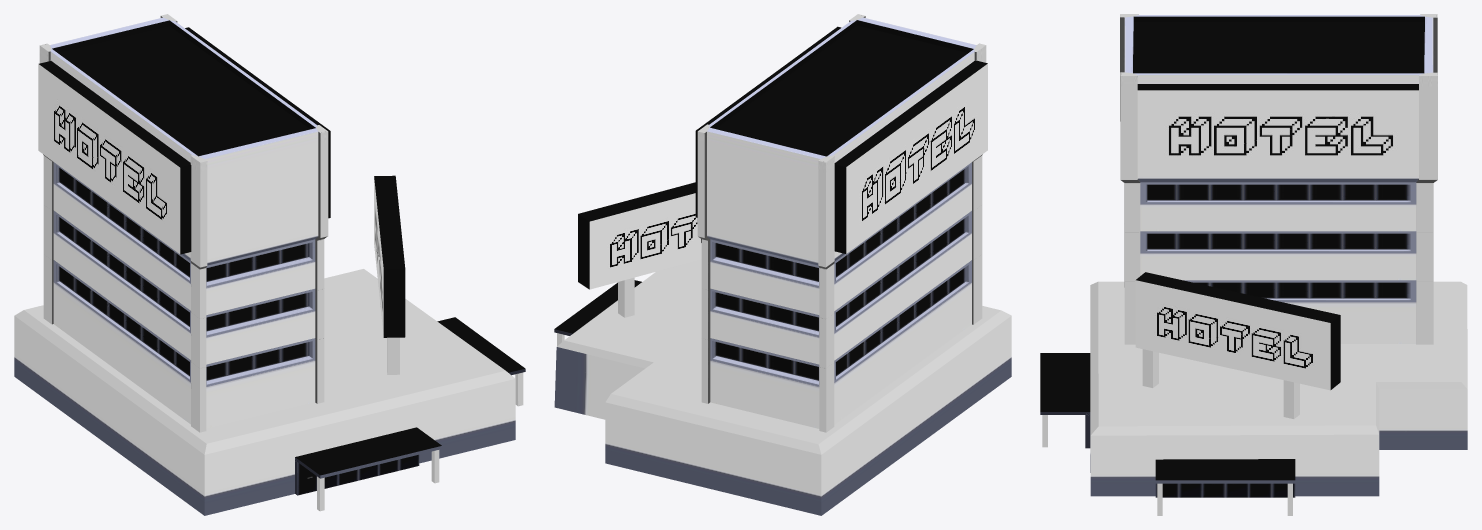
File: htl-simple.glb
The picture shows the model from 3 angles, left to right: view 1: azimuth 30°, elevation 25°; view 2: azimuth 150°, elevation 25°; view 3: azimuth 270°, elevation 25°; orthographic projection.
Parts seen in each view (by area): view 1: Hotel Small; view 2: Hotel Small; view 3: Hotel Small.
Boxes of the visible parts, x1=… form: Hotel Small: x1=14, y1=14, x2=525, y2=515; Hotel Small: x1=554, y1=14, x2=1011, y2=515; Hotel Small: x1=1040, y1=14, x2=1467, y2=515.
Bounding box in the file's own units: 1099 × 1007 × 1158.
1 material, 1 textured.
